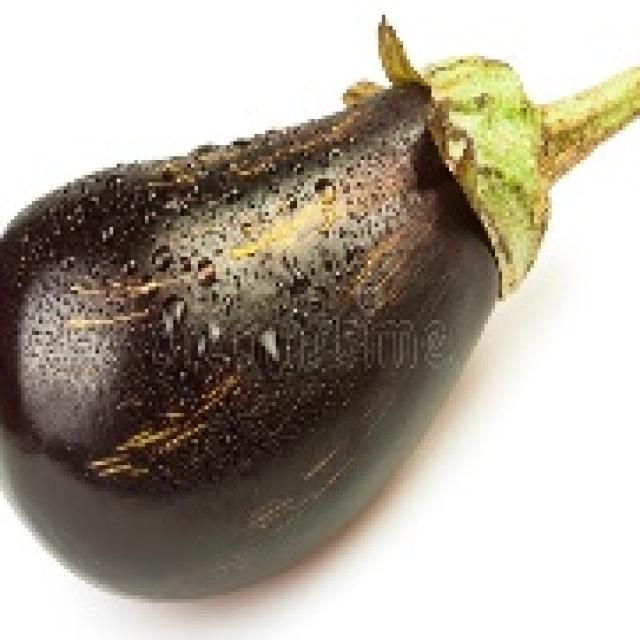eggplant: (0, 67, 545, 588)
